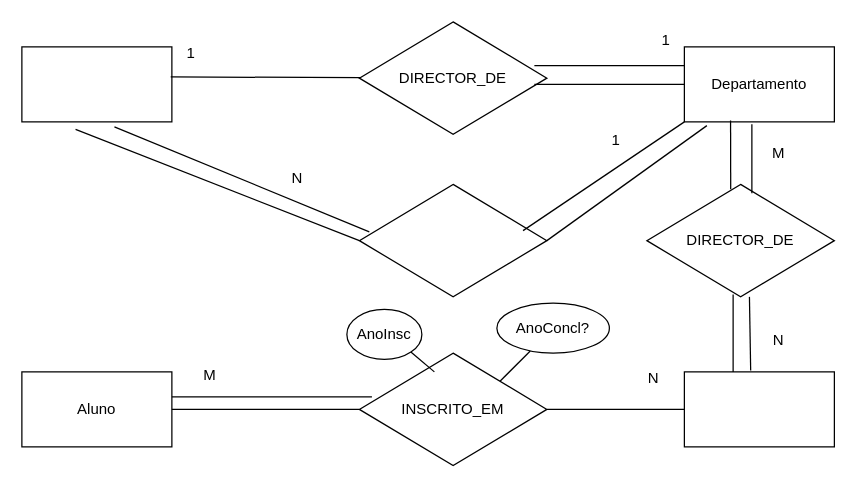
This 856x488 diagram has some shape labels left out. Here are the shapes that lost their labels. From the top down, the centre of each, then its label:
At point (96, 84): "Professor".
At point (452, 240): "TRABALHA_EM".
At point (758, 409): "Curso".
